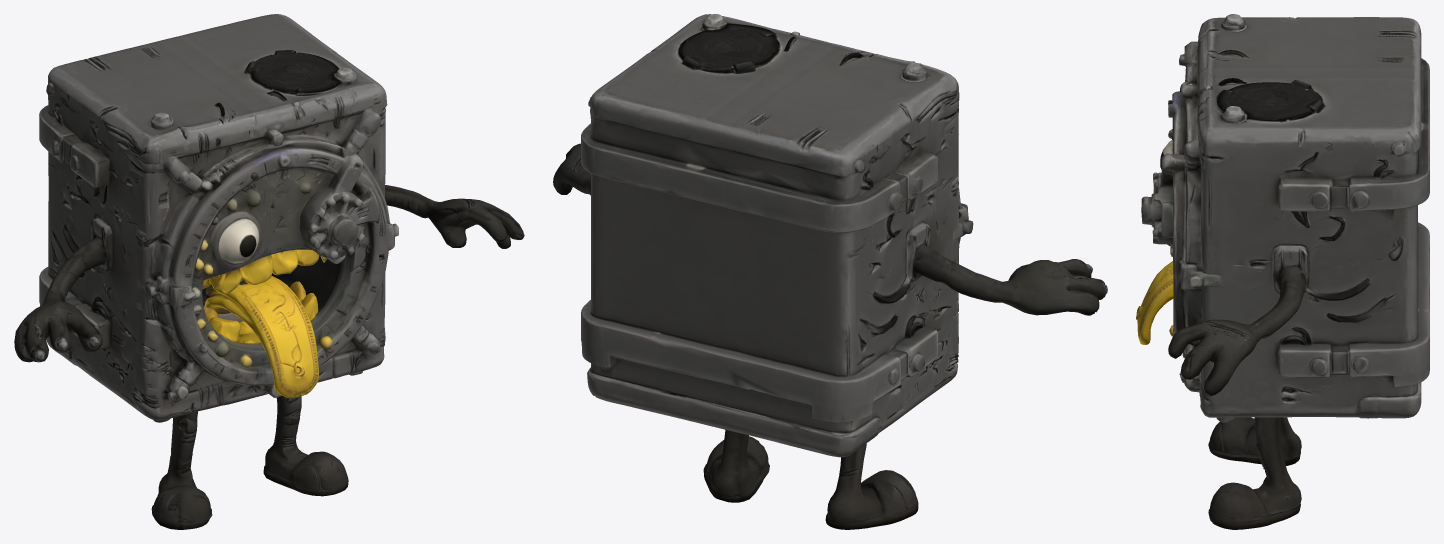
File: lockjaw.glb
3 views of the same model, side by side, from view 1: azimuth 30°, elevation 25°; view 2: azimuth 150°, elevation 25°; view 3: azimuth 270°, elevation 25° (orthographic). The views are drawn at different scales.
Parts seen in each view (by area): view 1: tripo_node_e51cb290-ec23-441b-91df-89ff7de5edac; view 2: tripo_node_e51cb290-ec23-441b-91df-89ff7de5edac; view 3: tripo_node_e51cb290-ec23-441b-91df-89ff7de5edac.
Part boxes in pixels (bbox=[...]): tripo_node_e51cb290-ec23-441b-91df-89ff7de5edac: bbox=[14, 14, 524, 529]; tripo_node_e51cb290-ec23-441b-91df-89ff7de5edac: bbox=[553, 14, 1107, 529]; tripo_node_e51cb290-ec23-441b-91df-89ff7de5edac: bbox=[1136, 14, 1429, 529].
Size of the model in its own units: 0.98 by 0.7775 by 0.4905.
1 material, 1 textured.
